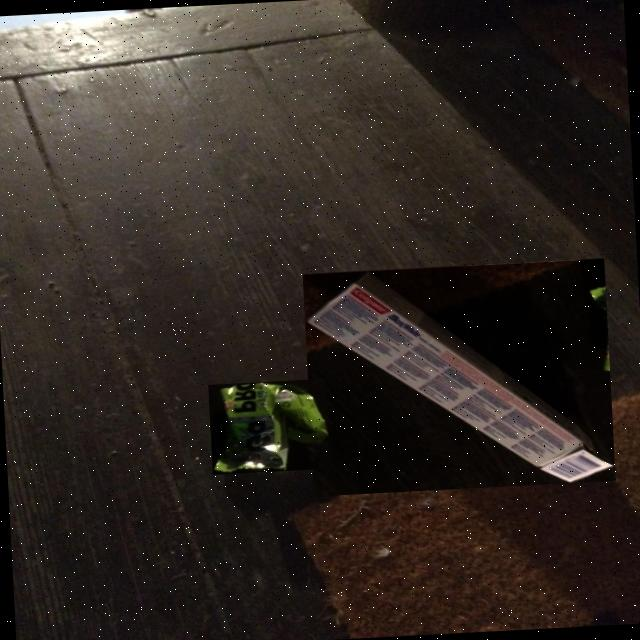Other carton: (305, 271, 615, 483)
Other plastic: (213, 382, 329, 473)
